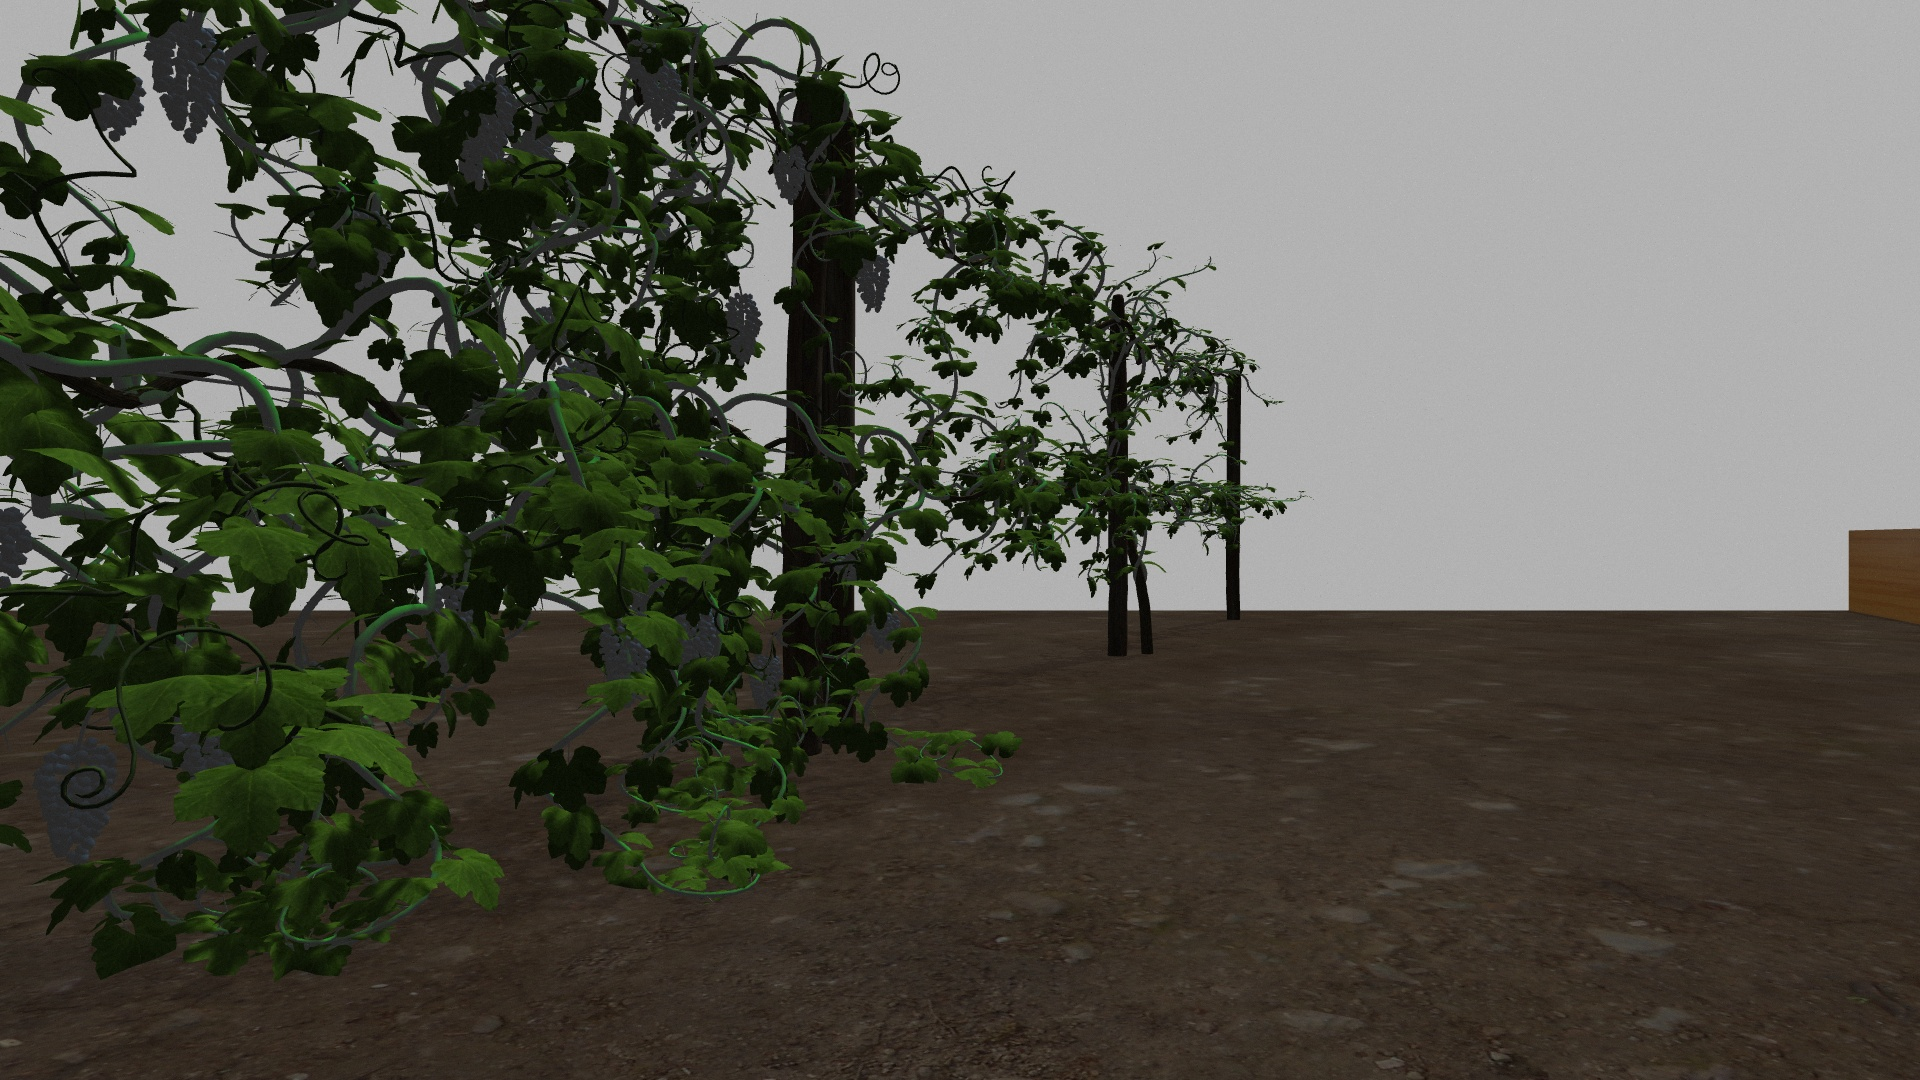grape: (33, 742, 127, 861), (144, 17, 225, 145), (454, 73, 524, 190), (626, 46, 684, 133), (597, 618, 653, 688), (673, 607, 721, 671), (723, 291, 764, 367), (746, 655, 785, 719), (855, 251, 891, 315), (771, 146, 807, 208), (868, 608, 903, 654)
